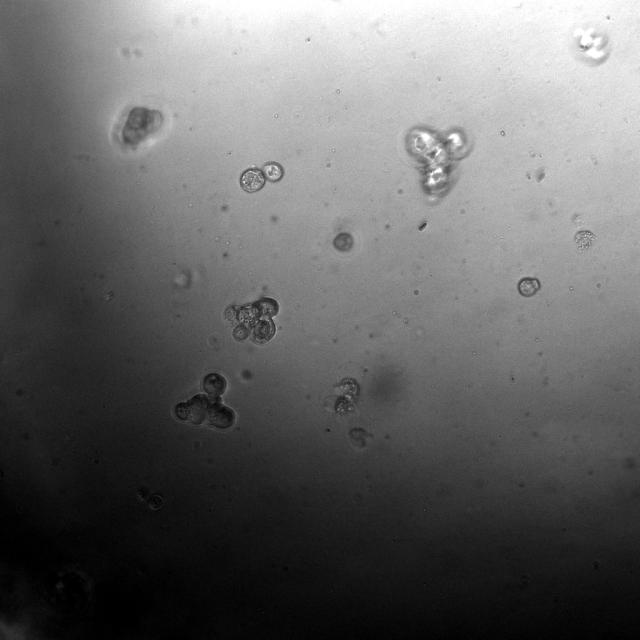organoid: (404, 125, 472, 197), (174, 371, 235, 430), (223, 296, 280, 344), (568, 22, 610, 66), (123, 107, 162, 145), (322, 377, 360, 415), (239, 161, 283, 192), (574, 230, 596, 252), (348, 428, 372, 448), (518, 277, 541, 297), (334, 233, 353, 251)
